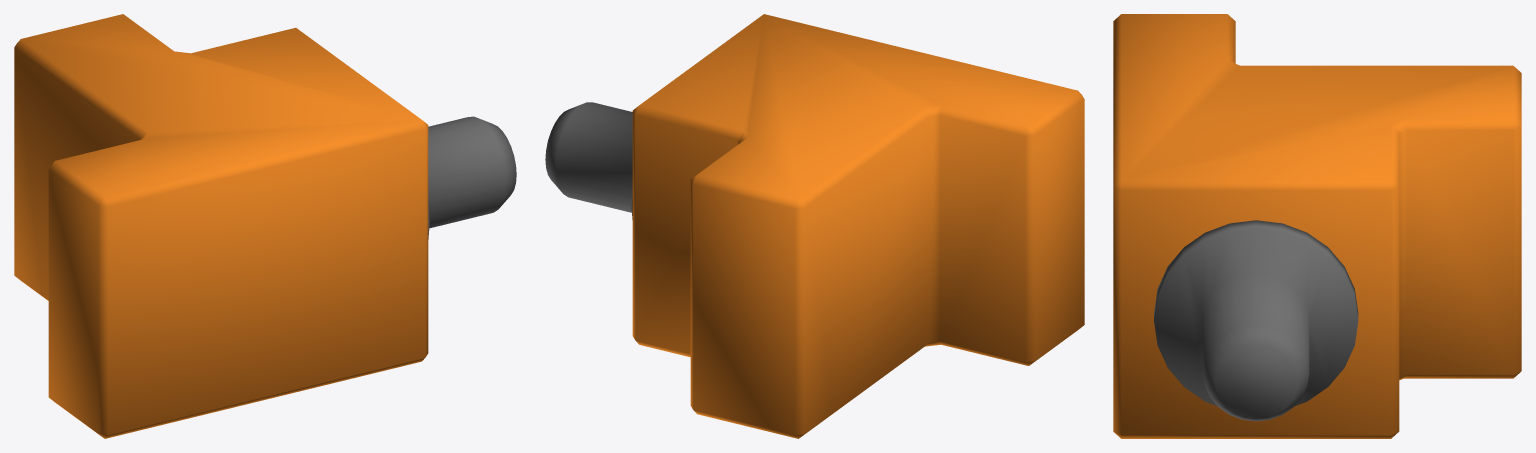
The model's file is sensor_orange.dae.
3 renders of one model, left to right at view 1: azimuth 30°, elevation 25°; view 2: azimuth 150°, elevation 25°; view 3: azimuth 270°, elevation 25°, orthographic. The views are drawn at different scales.
Parts seen in each view (by area): view 1: sensor_peg; view 2: sensor_peg; view 3: sensor_peg.
Part boxes in pixels (x1,y1,x2,y2): sensor_peg: (14, 14, 516, 438); sensor_peg: (545, 14, 1084, 438); sensor_peg: (1113, 14, 1521, 438).
Size of the model in its own units: 0.14 by 0.1 by 0.07.
